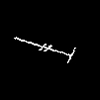treble_crochet: (15, 37, 74, 62)
